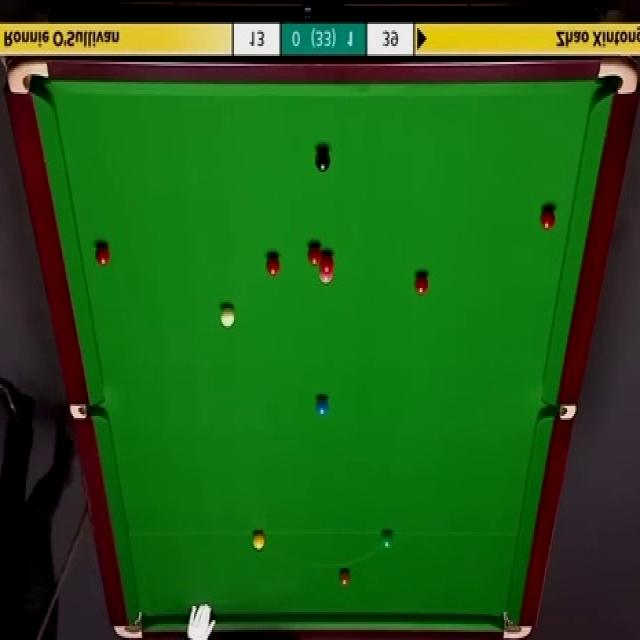black-ball: (314, 148, 331, 172)
blue-ball: (316, 395, 327, 415)
brown-ball: (336, 567, 352, 587)
green-ball: (380, 530, 393, 551)
pink-ball: (318, 264, 331, 284)
red-ball: (539, 205, 555, 232), (93, 242, 110, 264), (308, 242, 322, 266), (414, 273, 428, 295), (320, 248, 333, 270), (266, 254, 280, 274)
white-ball: (220, 304, 235, 328)
yellow-ball: (252, 532, 265, 551)
